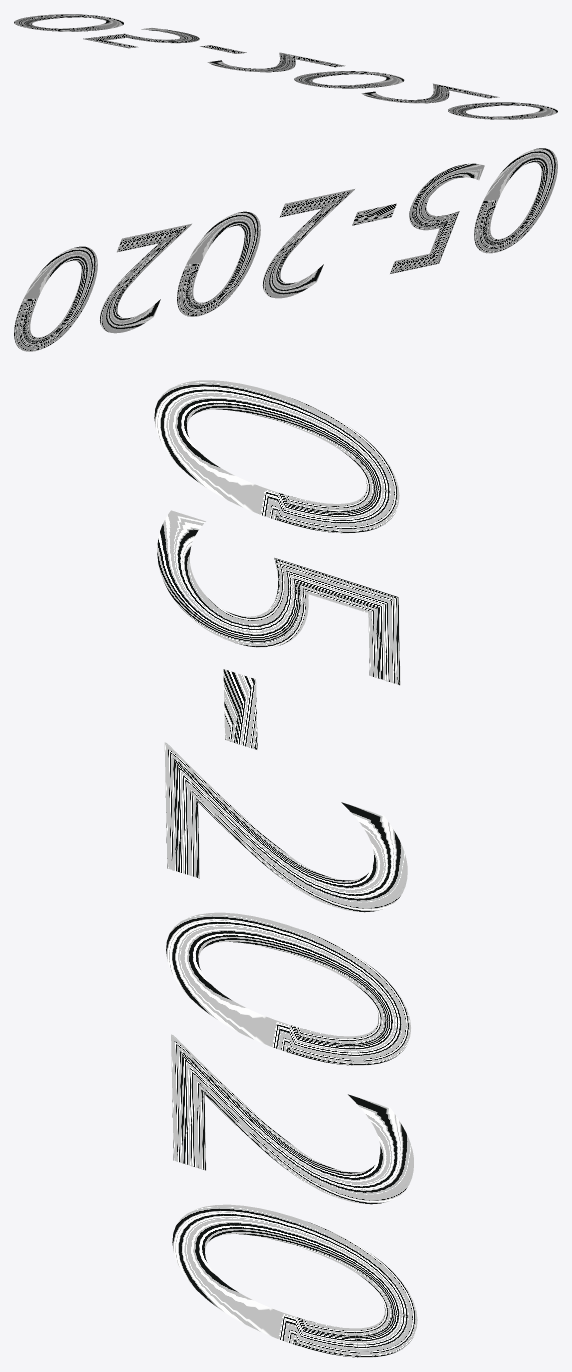
The picture shows the model from 3 angles, top to bottom: view 1: azimuth 30°, elevation 25°; view 2: azimuth 150°, elevation 25°; view 3: azimuth 270°, elevation 25°; orthographic projection. The views are drawn at different scales.
Parts seen in each view (by area): view 1: Text.002; view 2: Text.002; view 3: Text.002.
Boxes of the visible parts, <box> form: Text.002: <box>14,14,557,119</box>; Text.002: <box>14,148,557,351</box>; Text.002: <box>154,380,417,1357</box>.
Size of the model in its own units: 4.85 by 2.34 by 1.08.
1 material, 1 textured.
